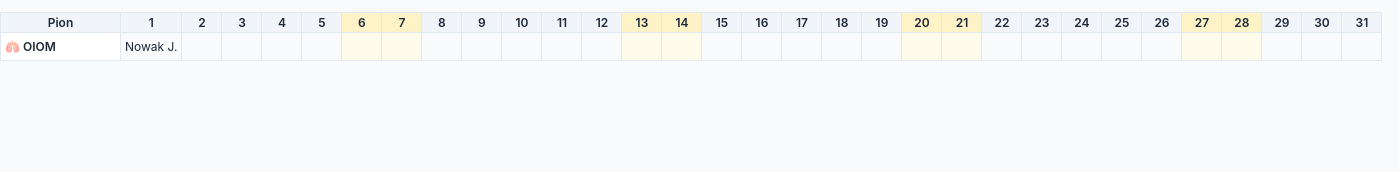
Test: AspectB › single click opens doctor picker after delay
This screenshot has width=1399, height=172.
What coordinates should you click on to do the following:
click the cell "Nowak J."
I would click on:
 (151, 46)
Its box is x1=120 y1=32 x2=182 y2=60.
Wait 250 ms
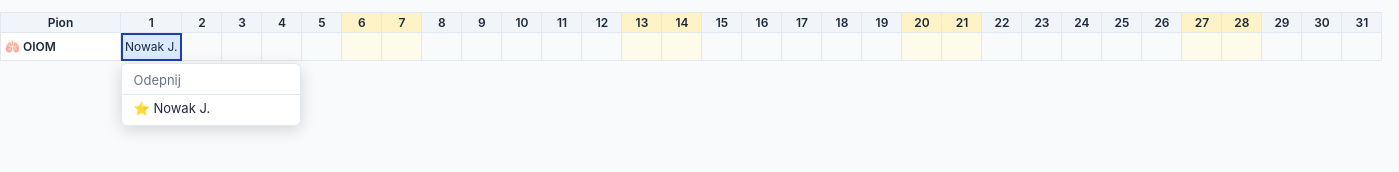
Expected: the list item "⭐ Nowak J." is shown, x1=134 y1=100 x2=210 y2=116
Expected: the list item "Odepnij" is shown, x1=122 y1=67 x2=300 y2=95
